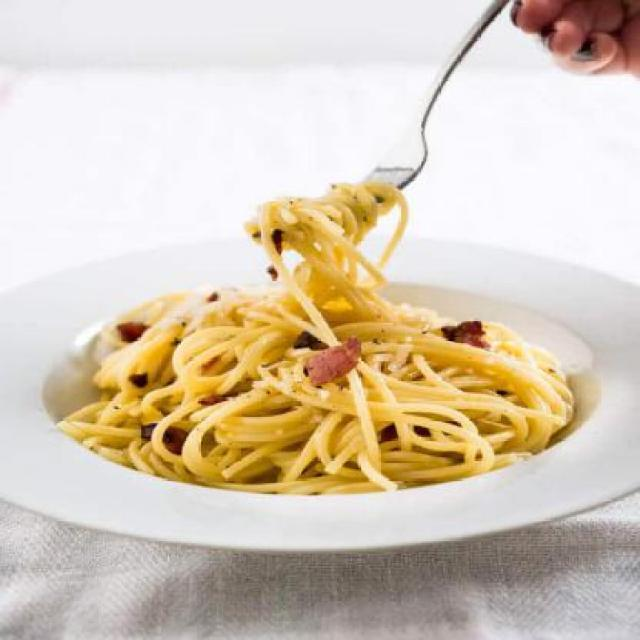Pasta with carbonara sauce: (48, 154, 620, 528)
